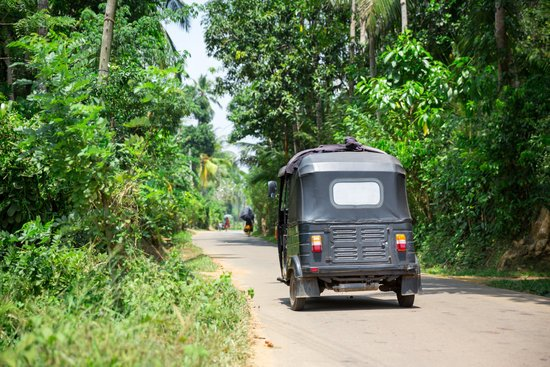threewheel: (266, 144, 422, 311)
